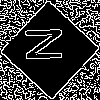N: (25, 25, 72, 64)
